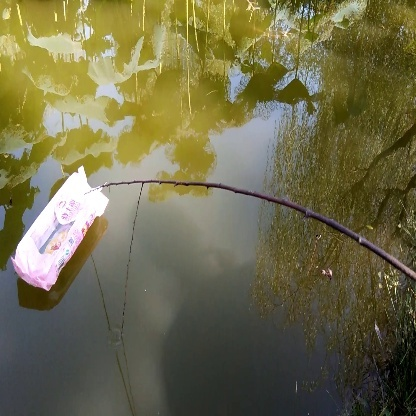plastic-bag: (9, 161, 108, 293)
